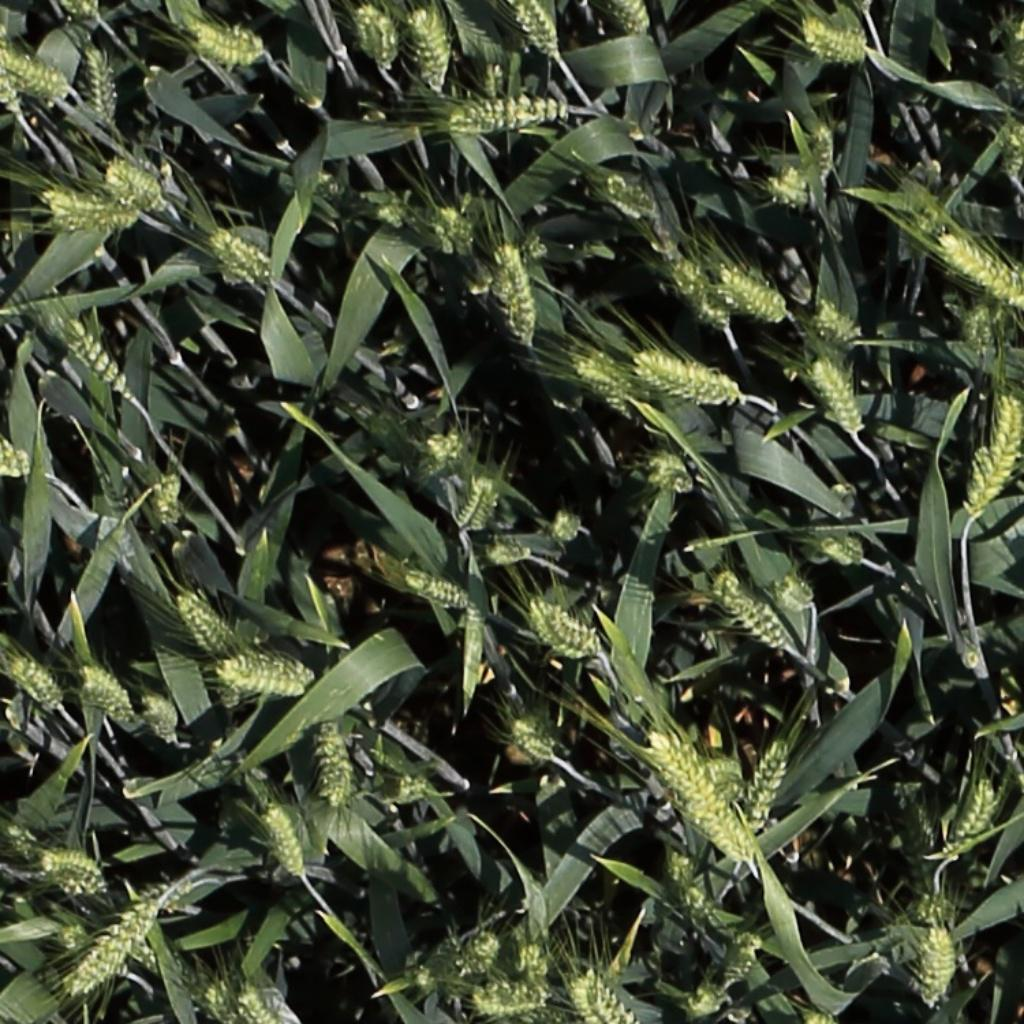0-0: (66, 879, 191, 998), (651, 733, 753, 865), (895, 805, 960, 944), (933, 228, 1024, 316), (965, 391, 1021, 522), (637, 353, 744, 417), (213, 649, 322, 709), (58, 315, 133, 400), (183, 16, 272, 77), (940, 776, 999, 868), (898, 918, 951, 1017), (671, 251, 733, 333), (707, 572, 782, 639), (745, 738, 793, 842), (812, 353, 869, 439), (440, 96, 566, 134), (528, 598, 602, 662), (43, 181, 137, 230), (716, 915, 775, 991), (174, 591, 238, 660), (260, 800, 311, 886), (494, 236, 532, 343), (316, 715, 358, 807), (408, 4, 450, 94), (632, 444, 700, 498), (728, 263, 797, 316), (808, 289, 872, 344), (465, 979, 550, 1020), (211, 229, 270, 286), (410, 415, 477, 465), (763, 568, 826, 621), (100, 159, 165, 209), (582, 966, 637, 1024), (83, 40, 118, 131), (675, 975, 738, 1023), (4, 52, 70, 97), (8, 658, 64, 711), (456, 471, 499, 540), (514, 0, 563, 60), (137, 688, 184, 750), (79, 666, 136, 716), (804, 20, 869, 62), (0, 19, 27, 120), (358, 3, 398, 70), (451, 930, 502, 982), (604, 177, 664, 218), (574, 355, 631, 396), (420, 198, 462, 251), (409, 574, 471, 608), (510, 719, 561, 760), (570, 970, 606, 1024), (479, 539, 536, 572), (198, 978, 240, 1021), (157, 464, 182, 535), (402, 959, 443, 1001), (390, 768, 434, 807), (813, 116, 838, 184), (999, 114, 1024, 182), (0, 413, 28, 473), (968, 299, 995, 360), (614, 0, 653, 42), (517, 935, 557, 975), (245, 981, 282, 1024), (792, 996, 847, 1024), (657, 848, 695, 888), (55, 0, 110, 27), (824, 538, 869, 568), (677, 881, 704, 931), (551, 505, 582, 547), (608, 393, 636, 427), (1008, 14, 1024, 71)
